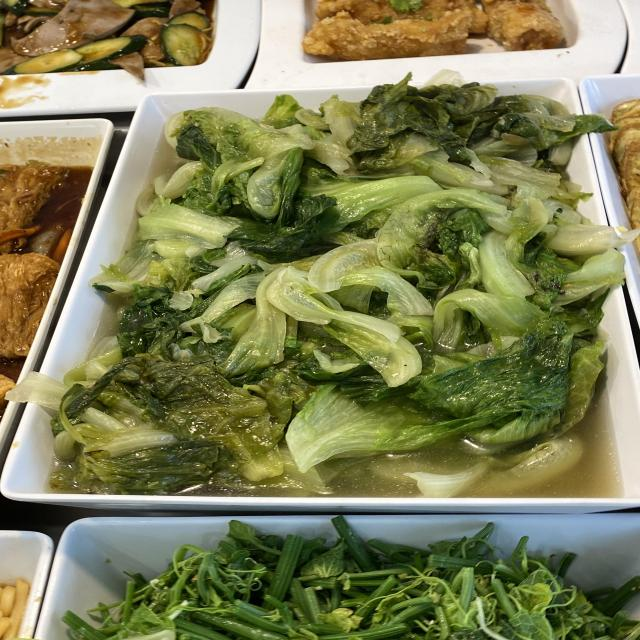Fushan-lettuce: (175, 118, 563, 460)
